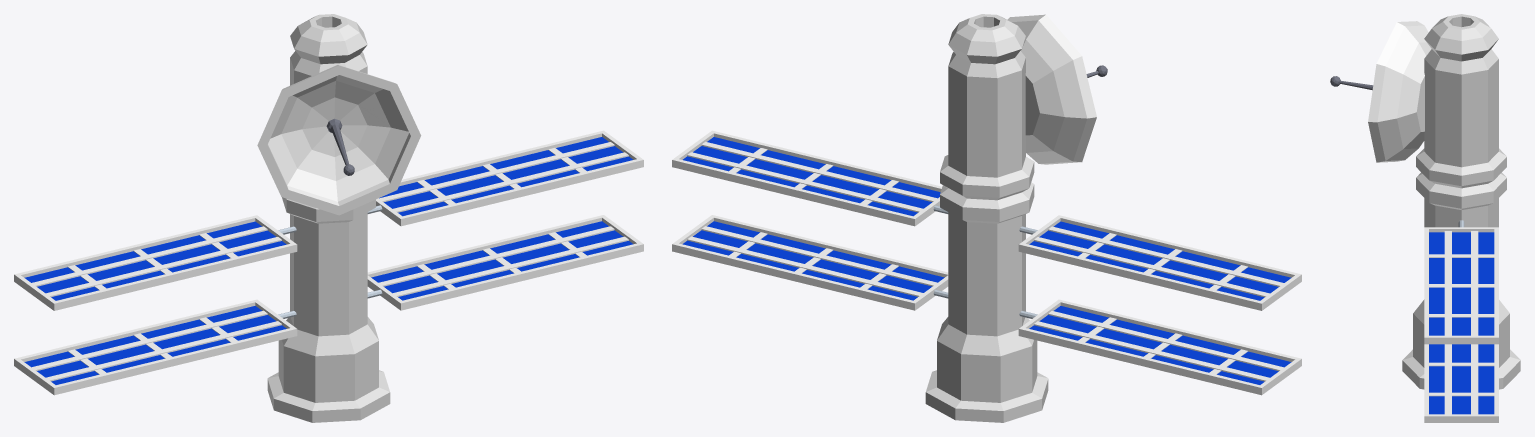
Rendered from Satellite6.glb.
3 views of the same model, side by side, from view 1: azimuth 30°, elevation 25°; view 2: azimuth 150°, elevation 25°; view 3: azimuth 270°, elevation 25° (orthographic). The views are drawn at different scales.
Visible parts, largest first — view 1: Satellite5-Panels, Satellite6-main, Satellite6-head; view 2: Satellite5-Panels, Satellite6-main, Satellite6-head; view 3: Satellite6-main, Satellite5-Panels, Satellite6-head.
Part boxes in pixels (x1,y1,x2,y2): Satellite5-Panels: (14, 130, 643, 395); Satellite6-main: (267, 14, 390, 422); Satellite6-head: (257, 65, 421, 215); Satellite5-Panels: (672, 130, 1301, 395); Satellite6-main: (925, 14, 1048, 422); Satellite6-head: (1007, 14, 1107, 164); Satellite6-main: (1402, 14, 1520, 389); Satellite5-Panels: (1424, 220, 1498, 422); Satellite6-head: (1330, 21, 1431, 162).
Bounding box in the file's own units: 16.99 × 10.32 × 5.1.
